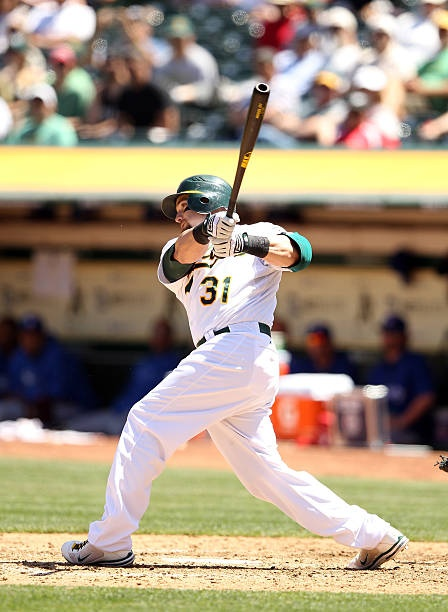bita: (220, 81, 274, 234)
